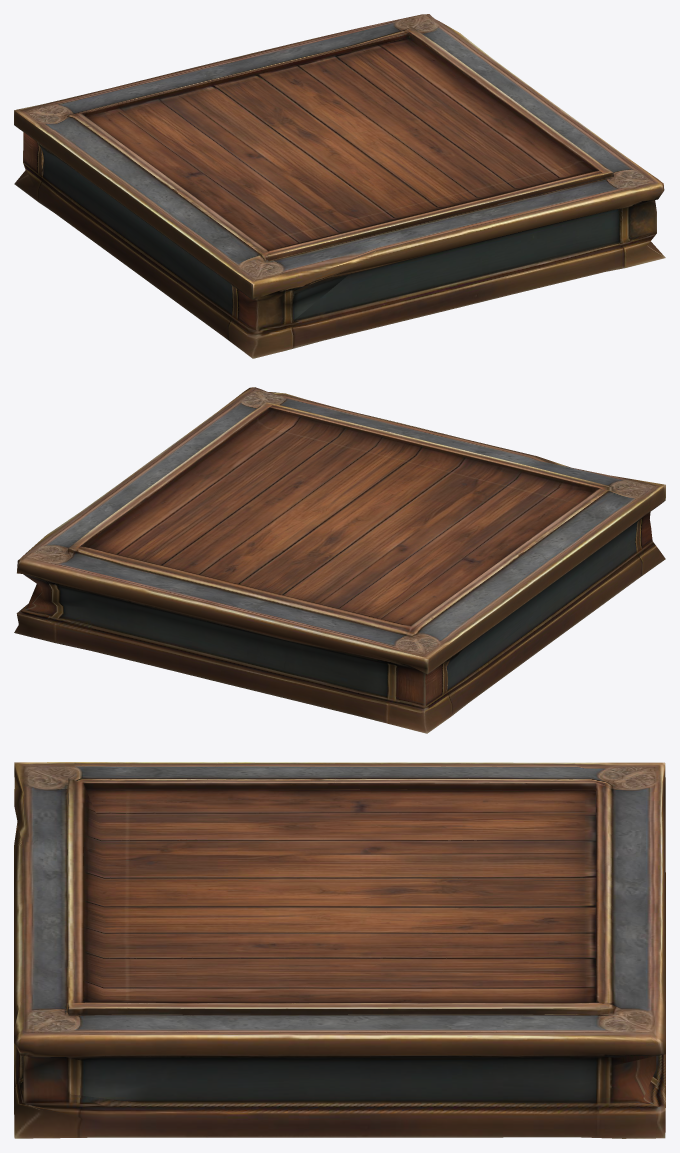
Rendered from Meshy_AI_Ornate_Wooden_Platfor_0310041028_texture.glb.
The picture shows the model from 3 angles, top to bottom: view 1: azimuth 30°, elevation 25°; view 2: azimuth 150°, elevation 25°; view 3: azimuth 270°, elevation 25°; orthographic projection. The views are drawn at different scales.
Parts seen in each view (by area): view 1: Mesh0; view 2: Mesh0; view 3: Mesh0.
Part boxes in pixels (box(x1,y1,x2,y2)): Mesh0: box(14, 14, 665, 358); Mesh0: box(14, 387, 665, 733); Mesh0: box(14, 762, 665, 1138).
Bounding box in the file's own units: 2 × 0.371 × 2.
Materials: 1 (1 with a texture image).
